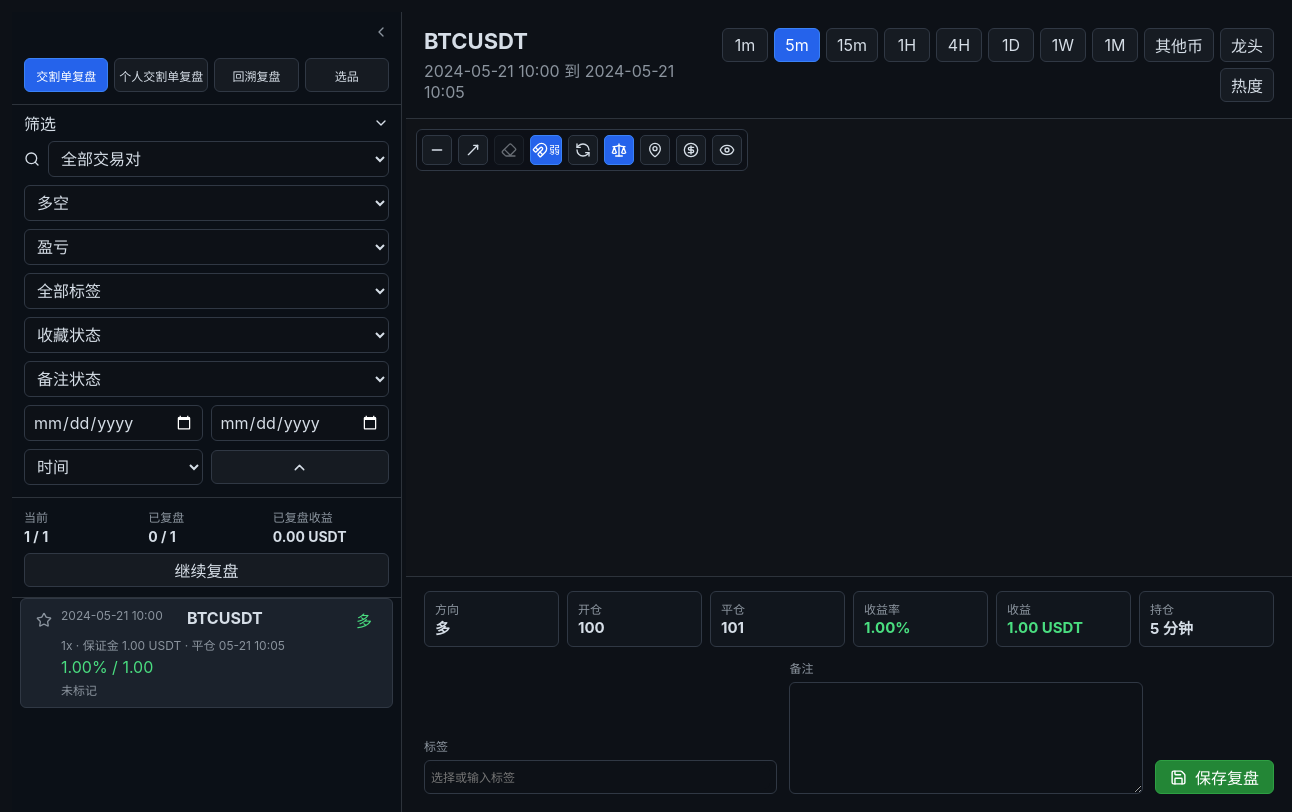
Test: App drawing magnet snap › AC9 defaults to weak magnet and cycles weak → strong → off → weak
The image size is (1292, 812).
Expected: the icon with class "drawing-overlay" is shown, [406,119,1291,576]
Click the button named "磁吸模式". click: x=546, y=150
box: [530,135,562,165]
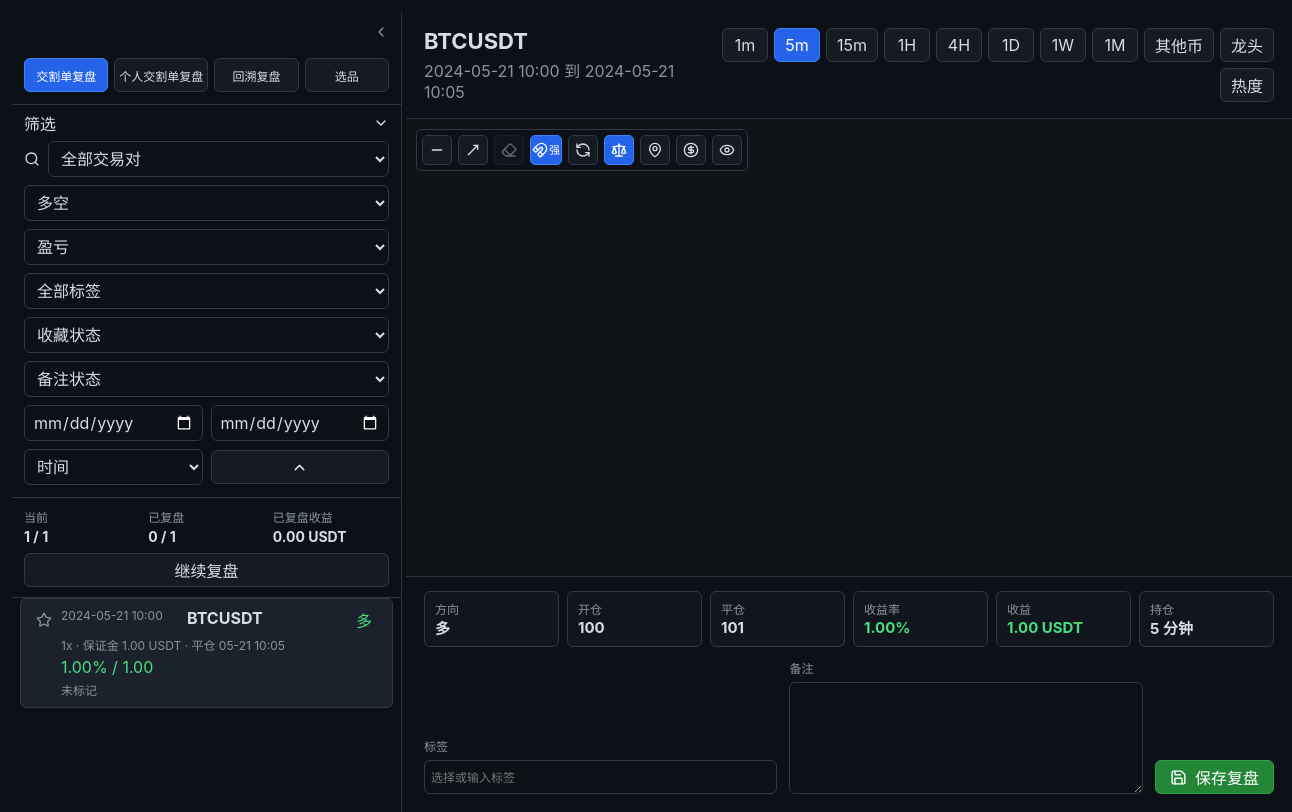
Expected: the button named "磁吸模式" reads "强"
Click the button named "磁吸模式". click: x=546, y=150
box: [530,135,562,165]
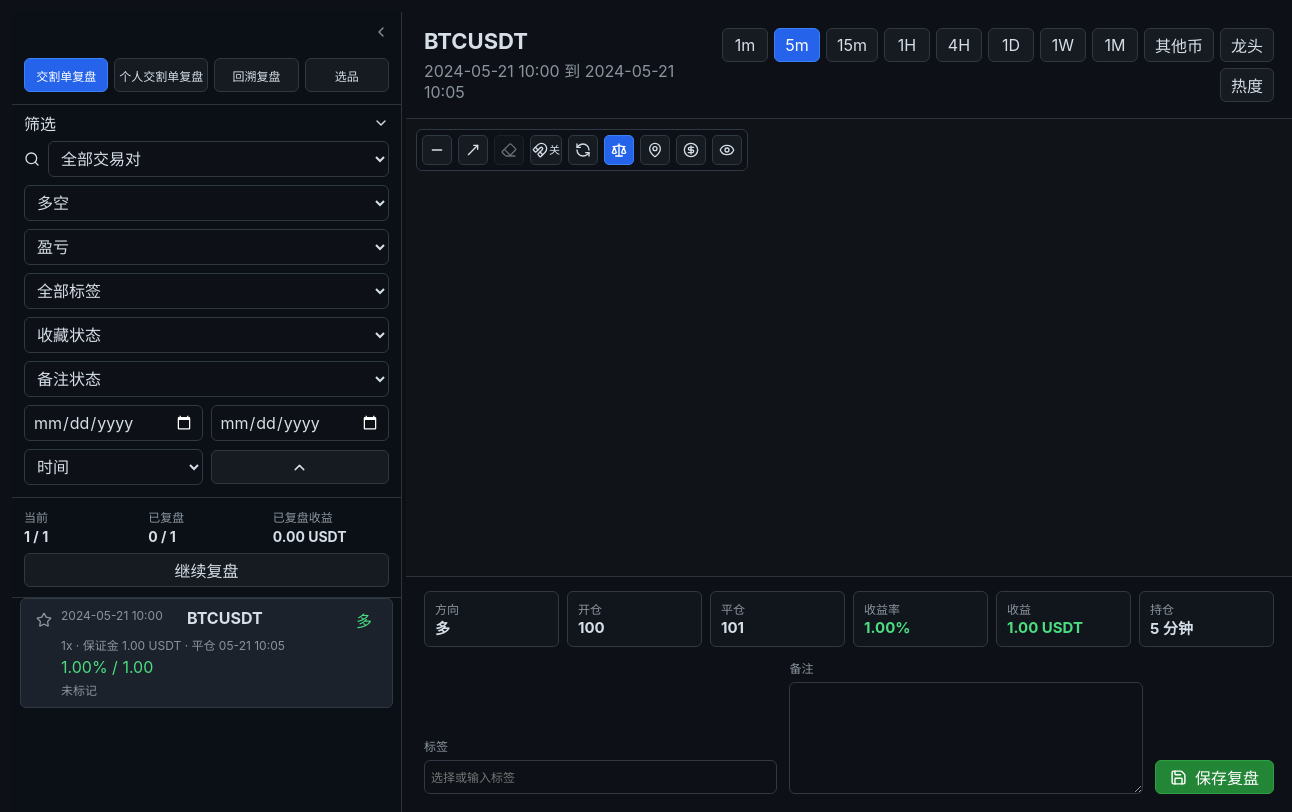
Expected: the button named "磁吸模式" reads "关"
Click the button named "磁吸模式". click: x=546, y=150
box: [530,135,562,165]
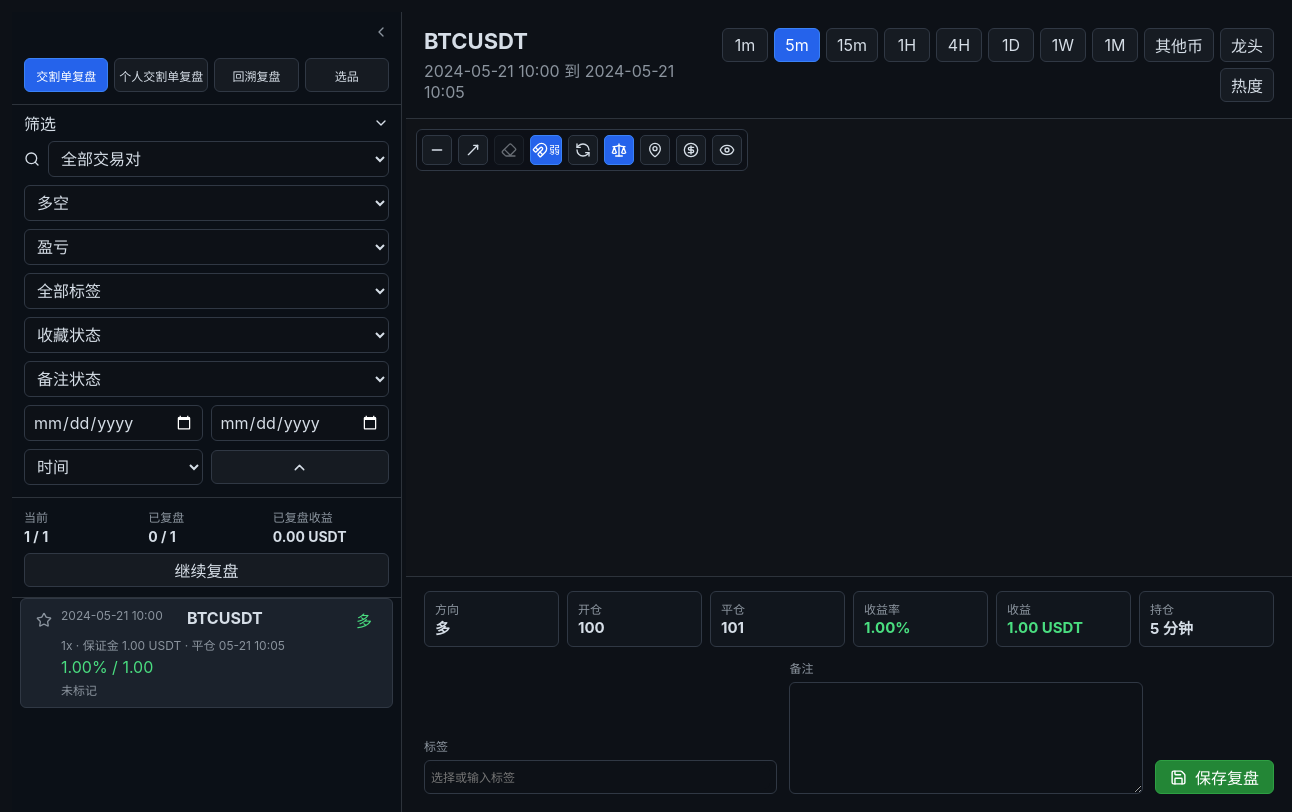
Expected: the button named "磁吸模式" reads "弱", [530,135,562,165]
